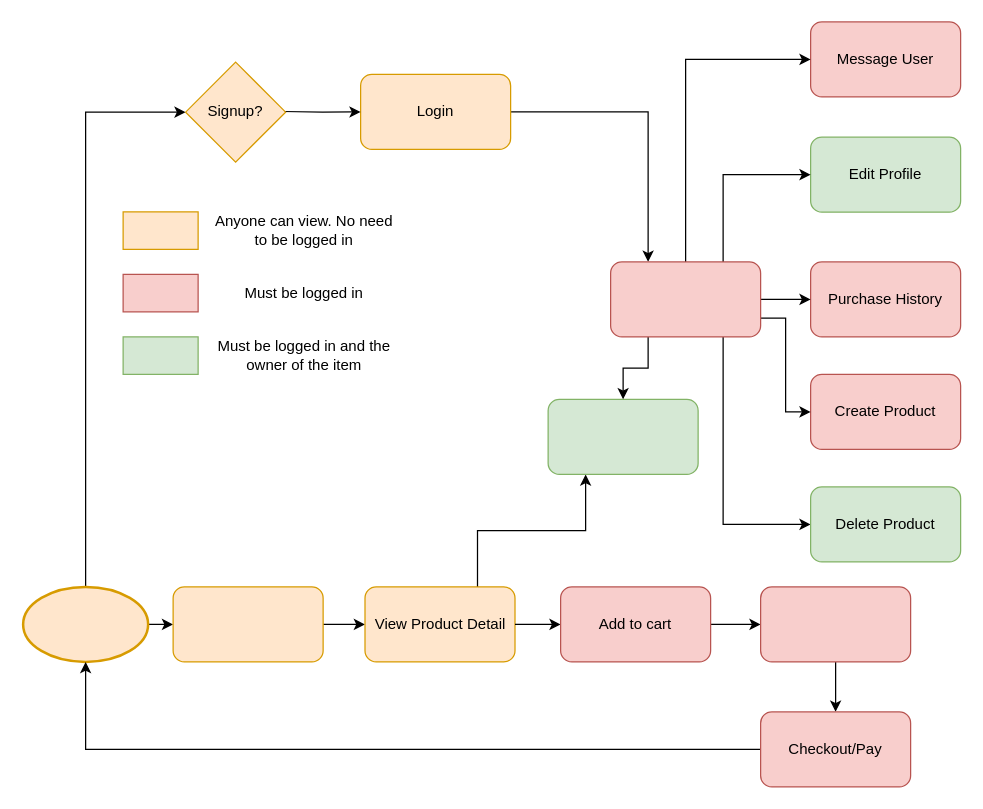
Some shapes in this 983 by 809 pixel diagram are drawn without their labels. The shapes that lost their labels are listed below. From the top down, each one's centre as x and y in pixels, then its label:
the point at 685,299: Profile
the point at 622,436: Amend Product
the point at 85,623: Homepage
the point at 247,624: View Product List
the point at 835,624: Cart
